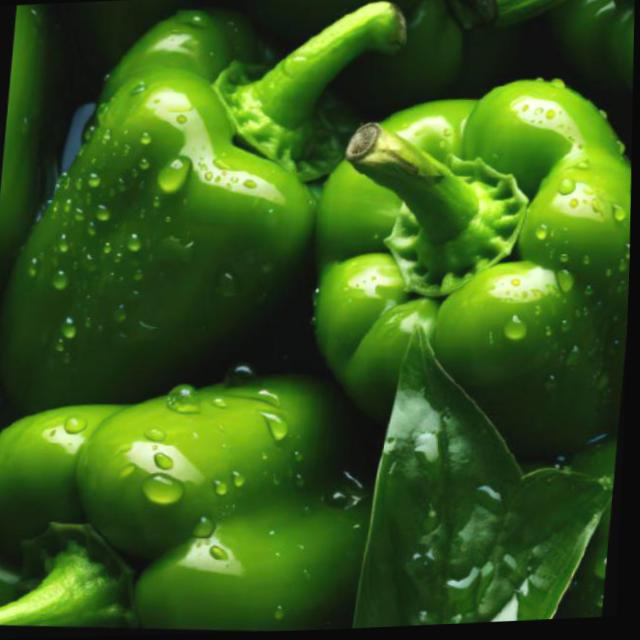Capsicum: (0, 0, 328, 410), (312, 84, 637, 459), (0, 368, 380, 640)
